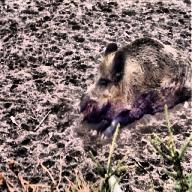boar: (78, 36, 192, 140)
